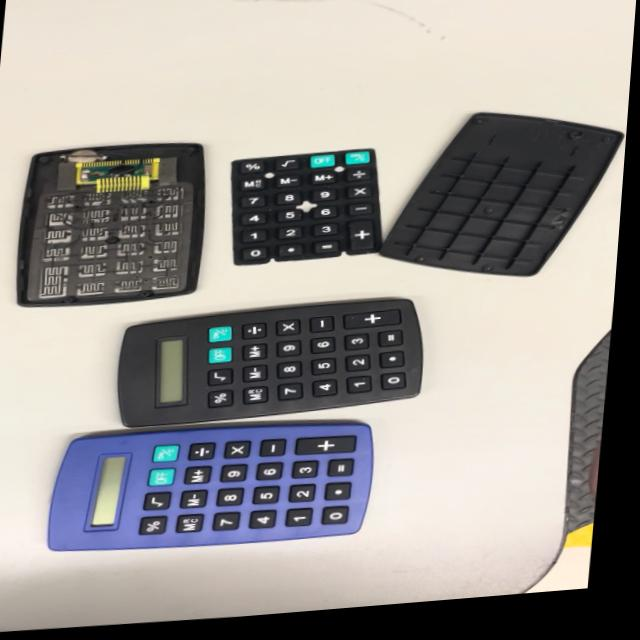back_cover: (382, 95, 623, 293)
calculator: (36, 402, 379, 567), (108, 290, 432, 432)
front_panel: (5, 134, 217, 313)
number_pad: (216, 135, 393, 271)
